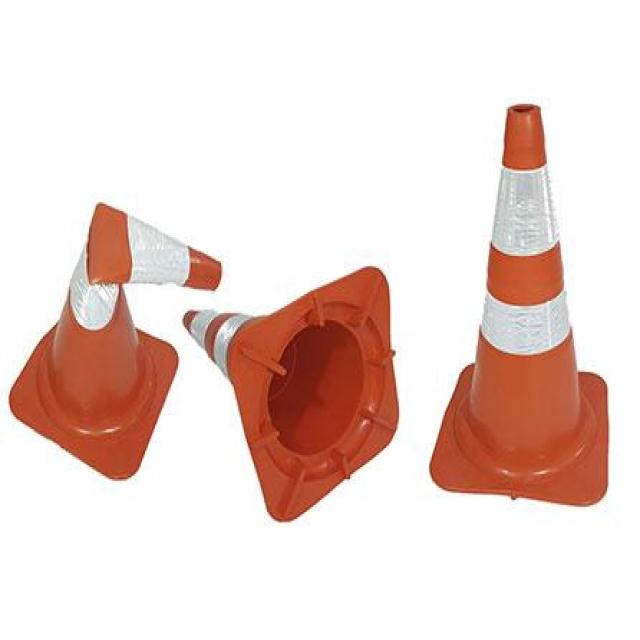cone: (426, 104, 607, 514), (9, 196, 228, 488), (176, 266, 402, 522)
